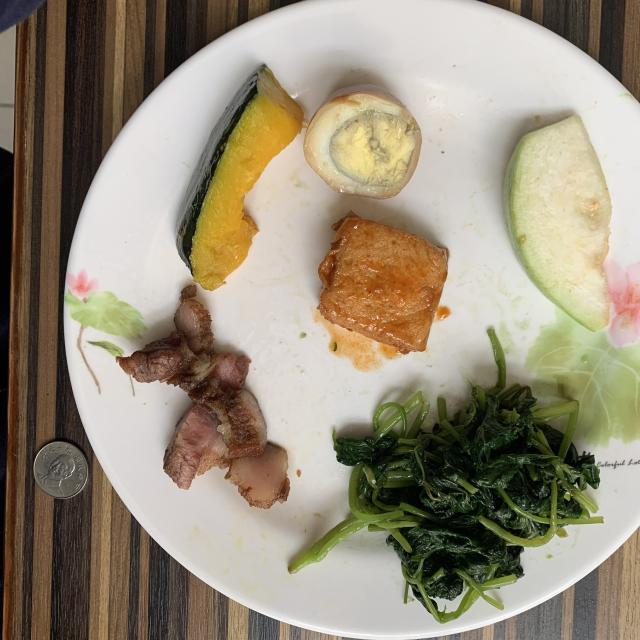coin: (34, 441, 88, 499)
creamy tofu: (319, 211, 448, 354)
grilled pork: (116, 286, 289, 508)
guava -sliced-: (504, 115, 611, 331)
pumpkin: (178, 65, 304, 290)
soy egg: (304, 85, 421, 199)
sweet potato leaves: (290, 330, 602, 622)
